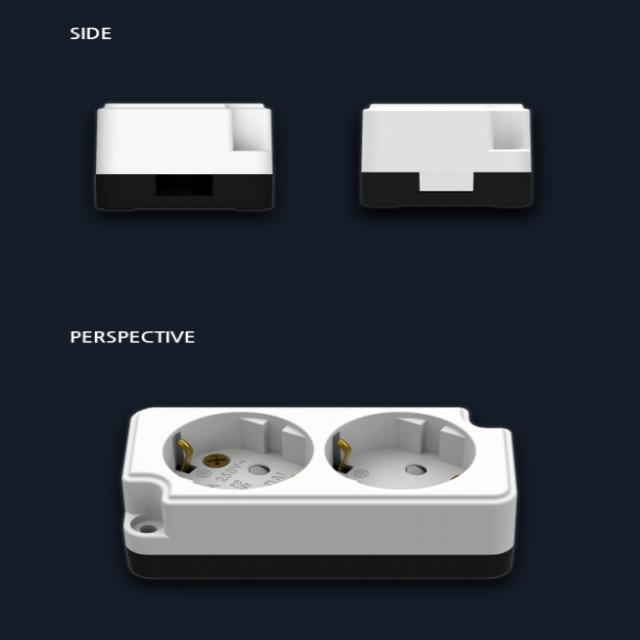typeb: (78, 368, 566, 600)
